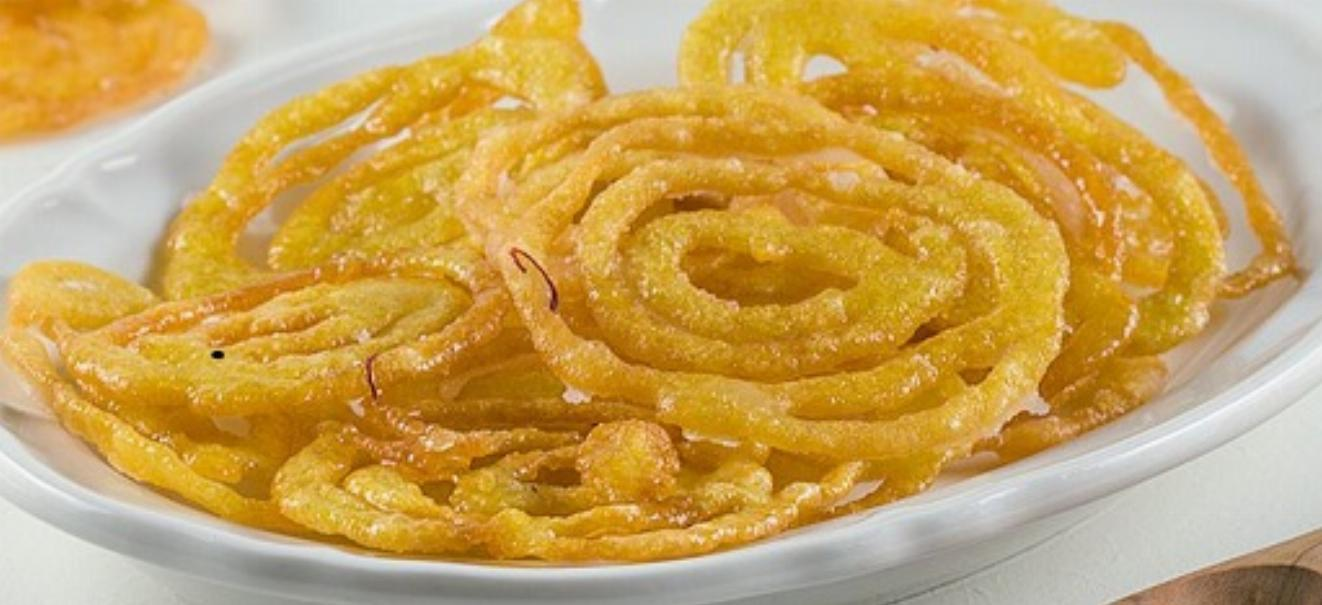jalebi: (17, 26, 1285, 526)
